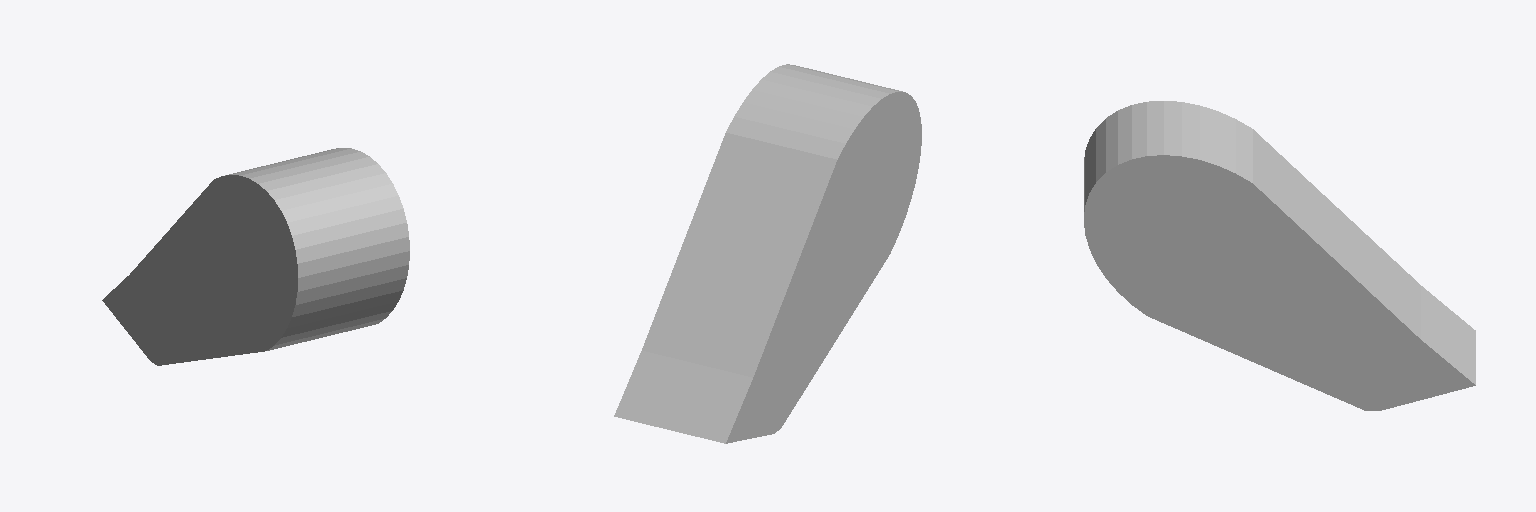
Rendered from e_right_reg2.obj.
The picture shows the model from 3 angles: view 1: azimuth 30°, elevation 25°; view 2: azimuth 150°, elevation 25°; view 3: azimuth 270°, elevation 25°; orthographic projection.
Bounding box in the file's own units: 0.5 × 1.1 × 1.52.